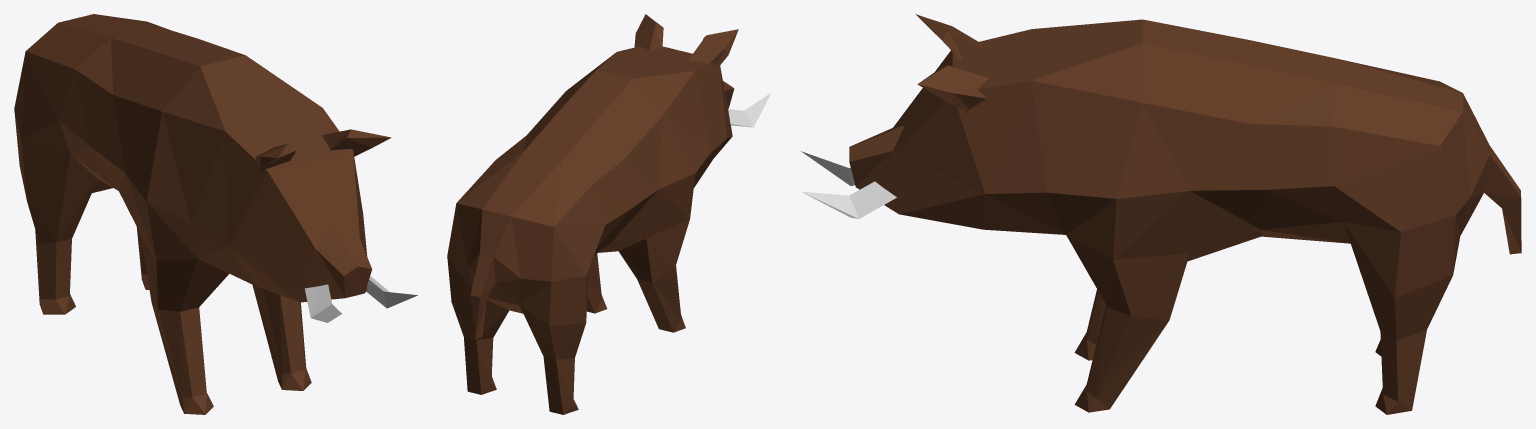
Rendered from Boar1.fbx.
3 views of the same model, side by side, from view 1: azimuth 30°, elevation 25°; view 2: azimuth 150°, elevation 25°; view 3: azimuth 270°, elevation 25° (orthographic). The views are drawn at different scales.
Parts seen in each view (by area): view 1: Boar1; view 2: Boar1; view 3: Boar1.
Boxes of the visible parts, <box> form: Boar1: <box>14,14,417,414</box>; Boar1: <box>447,14,771,414</box>; Boar1: <box>801,14,1521,414</box>.
Size of the model in its own units: 25.08 by 43.25 by 81.3.
